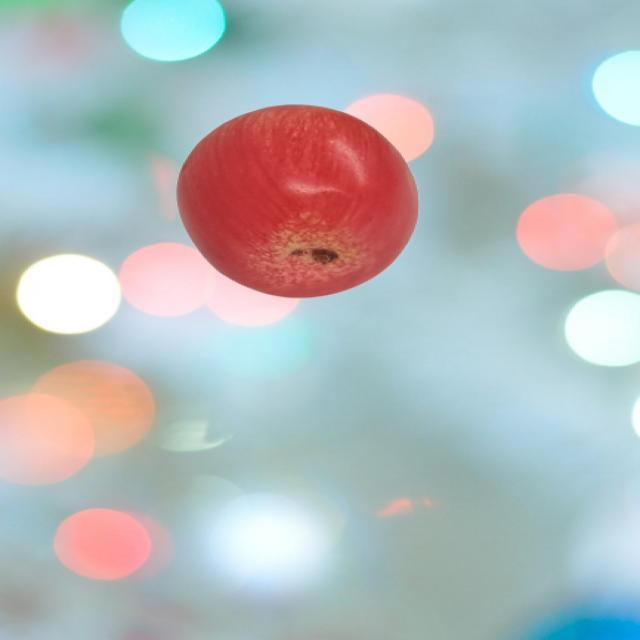apple: (179, 106, 417, 296)
